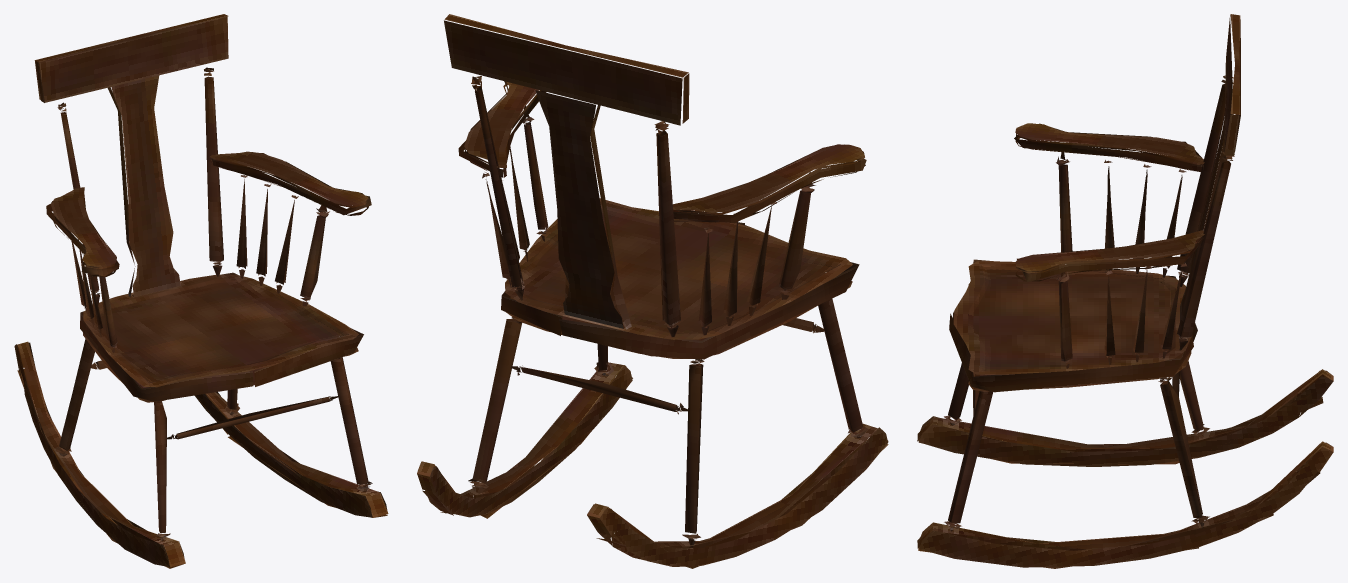
The model's file is Rockingchair_01.glb.
The picture shows the model from 3 angles, left to right: view 1: azimuth 30°, elevation 25°; view 2: azimuth 150°, elevation 25°; view 3: azimuth 270°, elevation 25°; orthographic projection. The views are drawn at different scales.
Visible parts, largest first — view 1: Rockingchair_01; view 2: Rockingchair_01; view 3: Rockingchair_01.
Part boxes in pixels (box(x1,y1,x2,y2)): Rockingchair_01: box(14, 14, 388, 568); Rockingchair_01: box(417, 14, 888, 568); Rockingchair_01: box(917, 14, 1333, 568).
Bounding box in the file's own units: 0.7206 × 0.9981 × 0.8365.
Materials: 1 (1 with a texture image).
